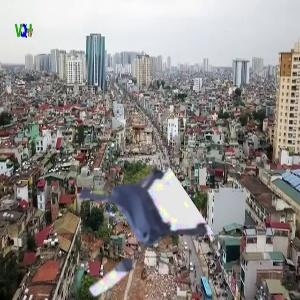drone: (44, 145, 190, 291)
